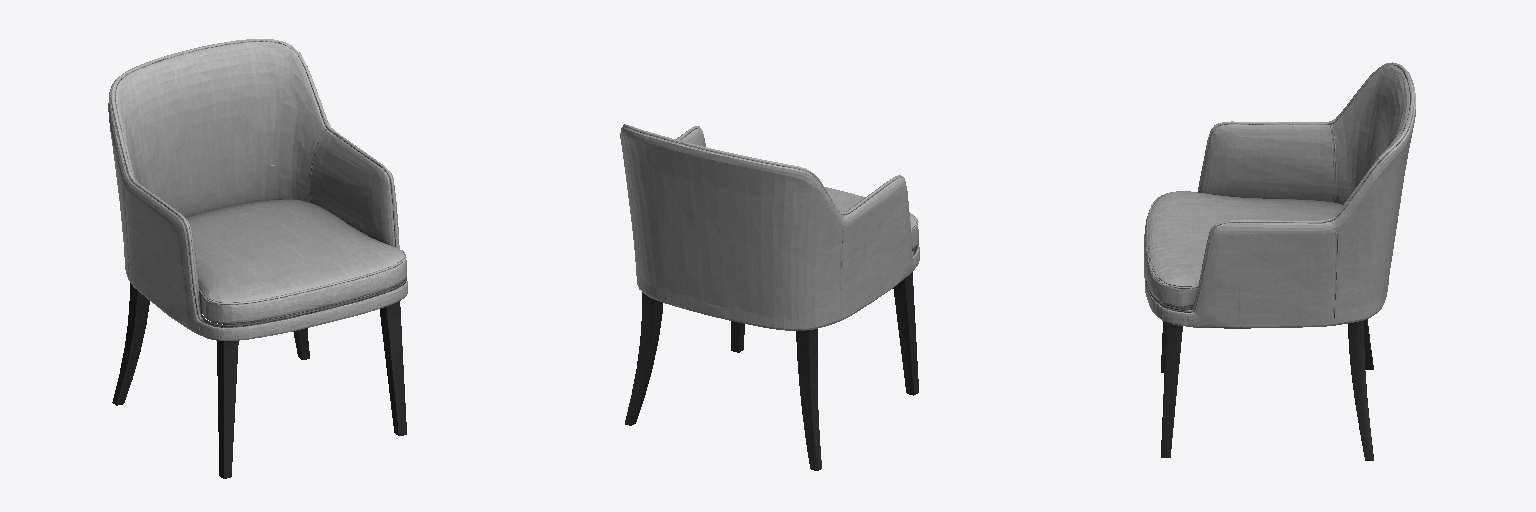
3 views of the same model, side by side, from view 1: azimuth 30°, elevation 25°; view 2: azimuth 150°, elevation 25°; view 3: azimuth 270°, elevation 25° (orthographic).
Parts seen in each view (by area): view 1: solid_001, solid_003; view 2: solid_001, solid_003; view 3: solid_001, solid_003.
Part boxes in pixels (x1,y1,x2,y2): solid_001: (108, 39, 407, 340); solid_003: (112, 283, 406, 478); solid_001: (620, 124, 919, 330); solid_003: (625, 272, 918, 470); solid_001: (1144, 62, 1415, 328); solid_003: (1161, 305, 1373, 460).
Bounding box in the file's own units: 0.4592 × 0.6483 × 0.5076.
1 materials, 1 textured.